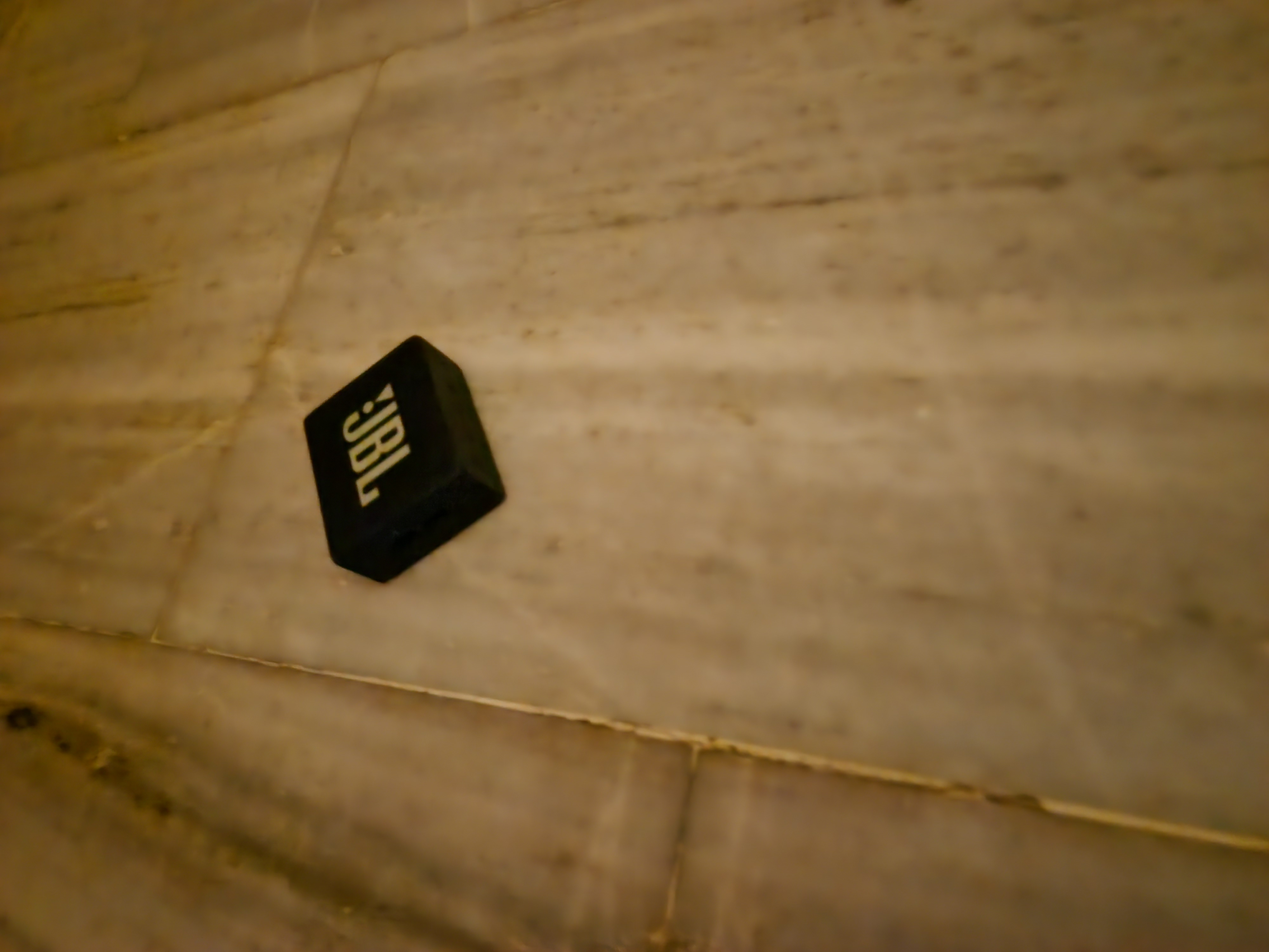speaker: (303, 332, 509, 584)
